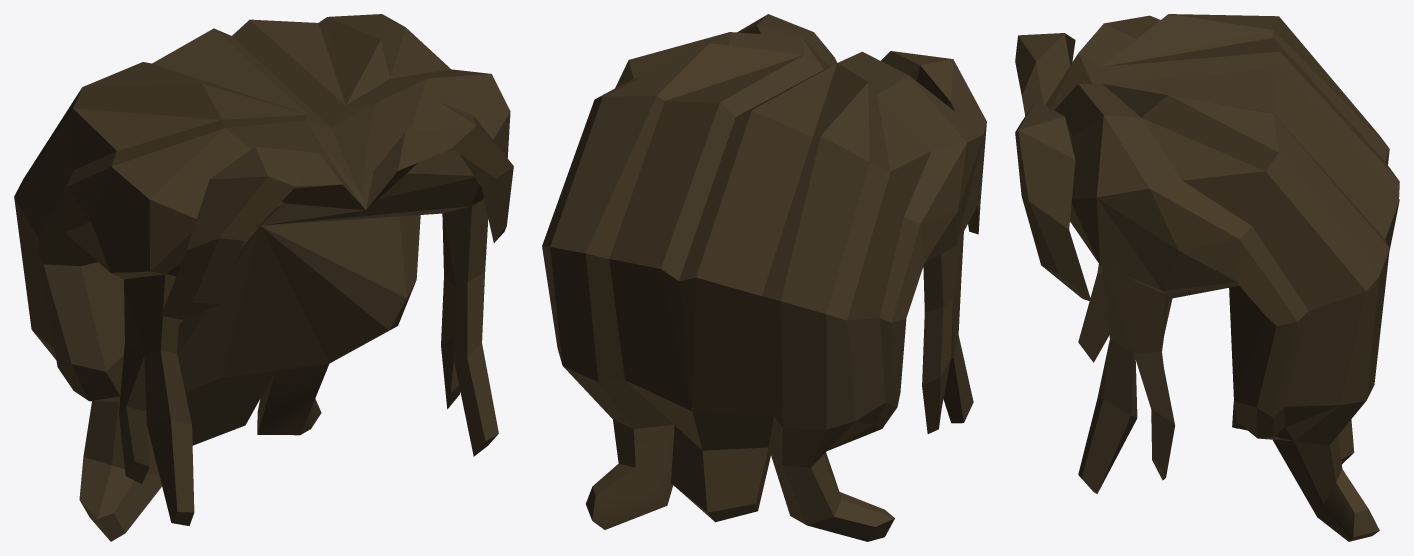
The model's file is Chr_Hair_24_Static.fbx.
The picture shows the model from 3 angles, left to right: view 1: azimuth 30°, elevation 25°; view 2: azimuth 150°, elevation 25°; view 3: azimuth 270°, elevation 25°; orthographic projection. The views are drawn at different scales.
Visible parts, largest first — view 1: Chr_Hair_24_Static; view 2: Chr_Hair_24_Static; view 3: Chr_Hair_24_Static.
Part boxes in pixels (box(x1,y1,x2,y2)): Chr_Hair_24_Static: box(14, 14, 513, 541); Chr_Hair_24_Static: box(542, 14, 986, 541); Chr_Hair_24_Static: box(1015, 14, 1399, 541).
Bounding box in the file's own units: 0.2818 × 0.3254 × 0.2582.
